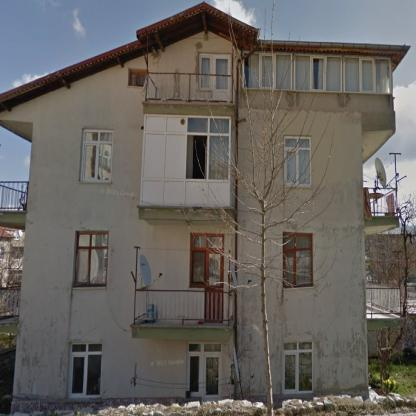door: (205, 234, 225, 321), (202, 342, 222, 401), (213, 54, 232, 102)
window: (245, 50, 391, 92), (184, 118, 229, 181), (67, 342, 102, 400), (73, 232, 107, 288), (79, 129, 113, 182), (284, 233, 315, 289), (282, 341, 314, 393), (284, 136, 312, 186), (190, 233, 206, 286), (186, 341, 201, 395), (199, 53, 211, 88), (128, 70, 146, 86)
